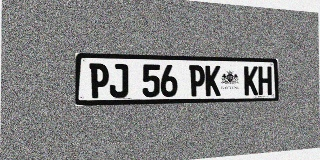5: (143, 64, 160, 97)
6: (161, 64, 177, 97)
H: (258, 66, 272, 95)
J: (109, 64, 128, 98)
K: (205, 65, 220, 96), (244, 66, 258, 95)
P: (89, 63, 109, 98), (189, 65, 205, 96)
